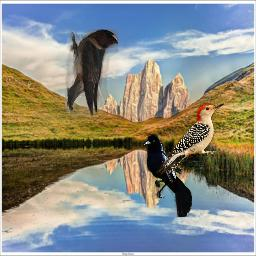Crow: (143, 134, 192, 217)
Swallow: (65, 29, 118, 117)
Woodpecker: (156, 103, 224, 176)
